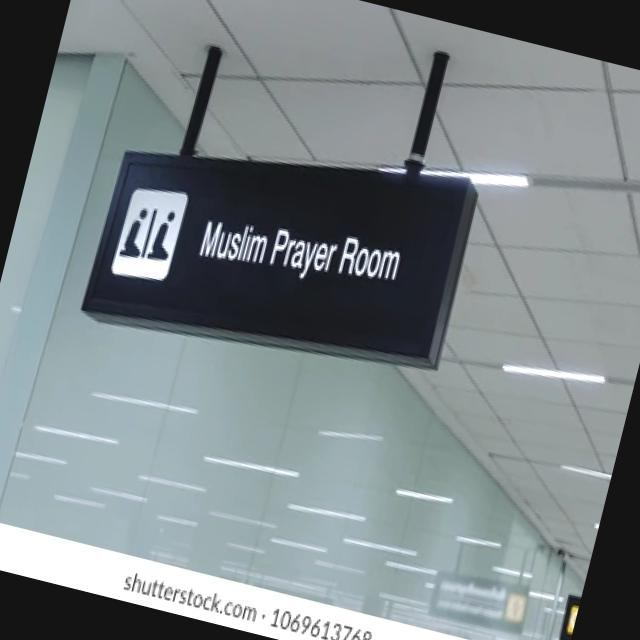surau_icon: (114, 189, 184, 282)
